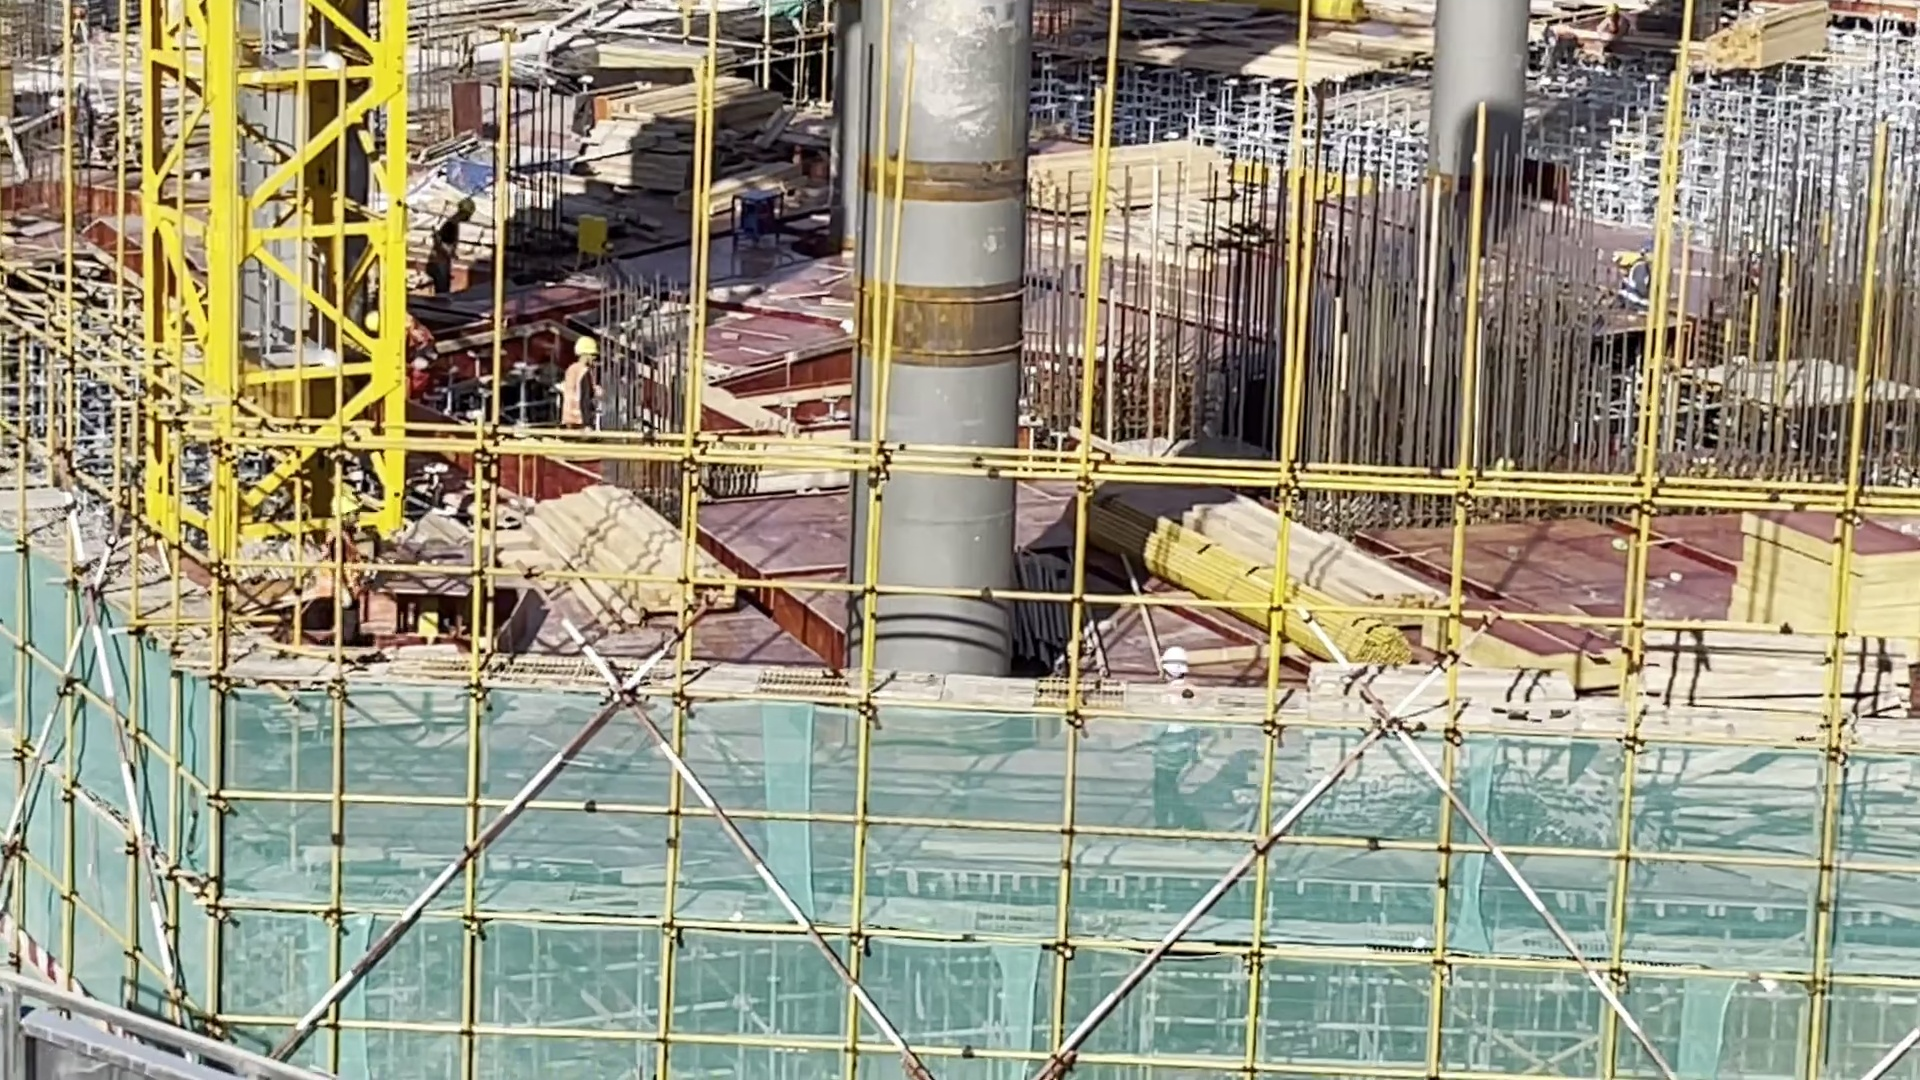board: (1740, 519, 1920, 631), (579, 89, 769, 193)
helmet: (573, 336, 600, 353)
person: (556, 333, 601, 430)
vest: (563, 362, 587, 424)
wood: (1155, 497, 1446, 664), (523, 483, 748, 620), (1036, 139, 1232, 204), (1697, 1, 1840, 77)
